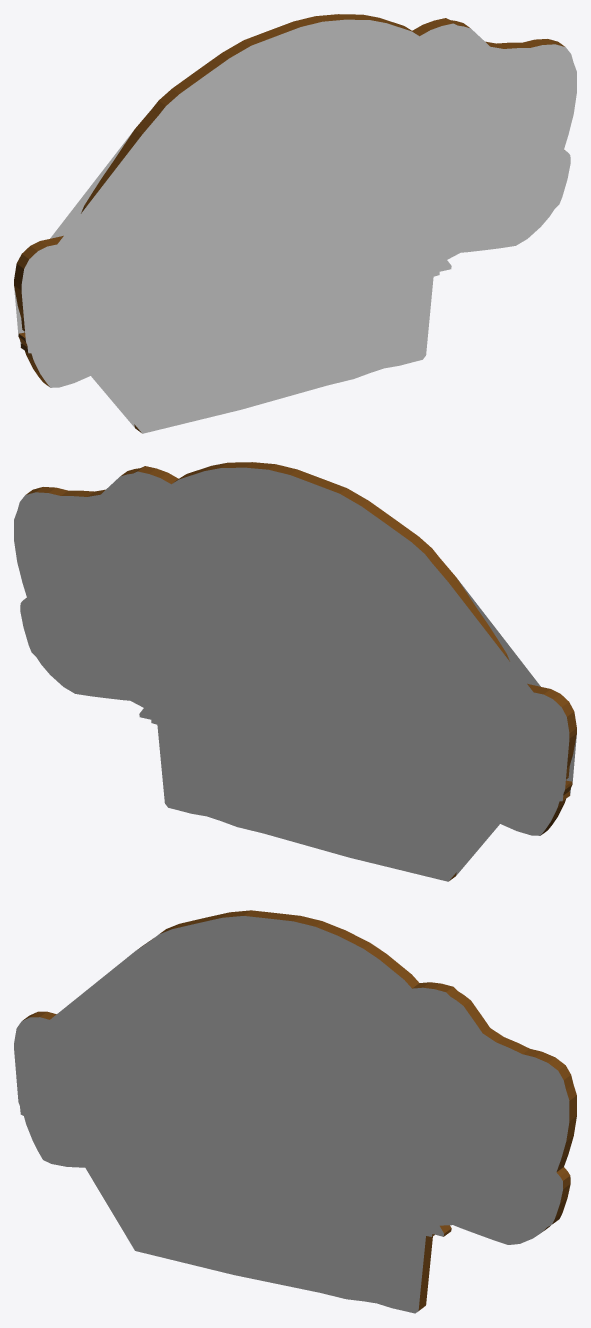
File: Chef_hat_Cutout.fbx
3 views of the same model, one above another, from view 1: azimuth 30°, elevation 25°; view 2: azimuth 150°, elevation 25°; view 3: azimuth 330°, elevation 25° (orthographic).
Visible parts, largest first — view 1: Plane.006; view 2: Plane.006; view 3: Plane.006.
Boxes of the visible parts, x1,y1,x2,y2 form: Plane.006: (14, 14, 576, 433); Plane.006: (14, 462, 576, 881); Plane.006: (14, 910, 576, 1313).
Bounding box in the file's own units: 171 × 108 × 4.
